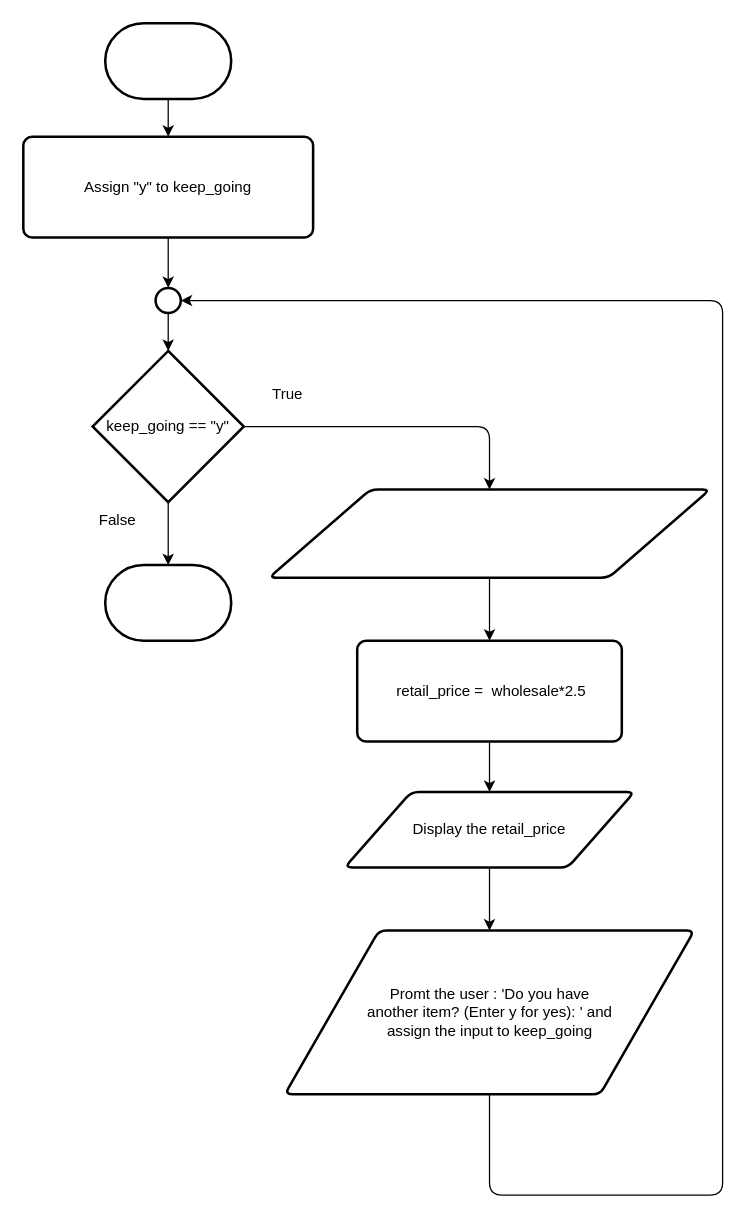
Image size: 755x1227. Some labels were removed from this diagram. The centre of each missing label's shape, as x and y in pixels:
End: point (167, 602)
Promt the user to enter the item's wholesale cost and assign it to wholesale: point (489, 533)
Start: point (167, 60)
